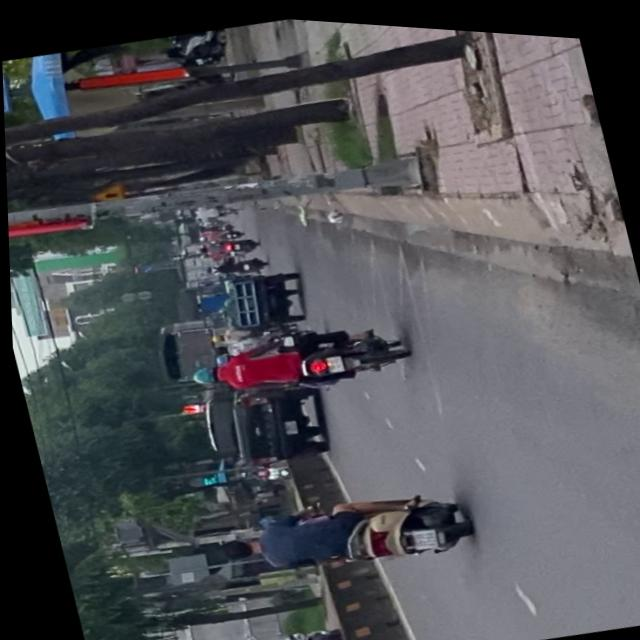helmet: (186, 360, 220, 388)
licenseplate: (204, 465, 474, 599), (179, 304, 411, 416)
motorcyclist: (211, 532, 256, 564)
nohelmet: (406, 522, 433, 546), (321, 351, 340, 370)
